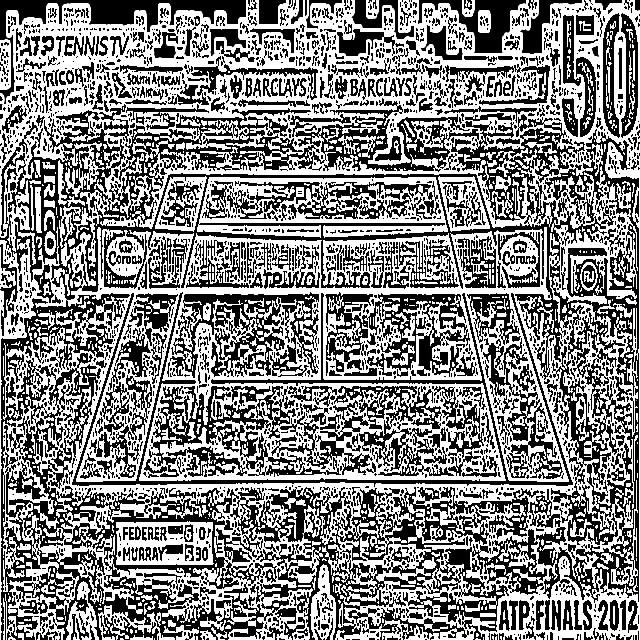left side: (437, 174, 571, 483), (74, 175, 208, 482)
player: (184, 300, 218, 446), (370, 98, 414, 164)
